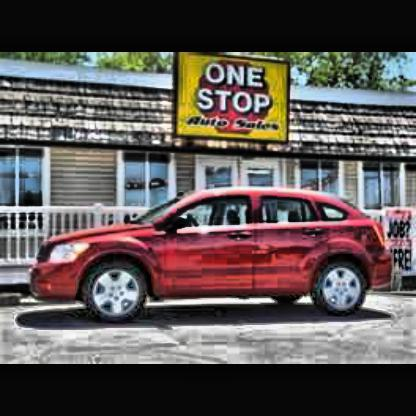Dodge Caliber Wagon 2007: (30, 186, 401, 329)
